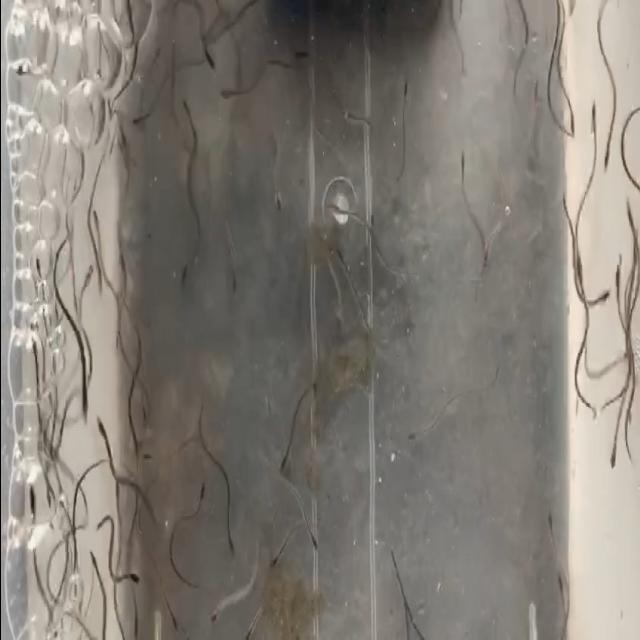active_glass_eel: (404, 407, 430, 458), (538, 494, 561, 543), (24, 327, 46, 378), (130, 96, 156, 139), (270, 438, 294, 482), (194, 35, 218, 79), (120, 555, 142, 603), (570, 250, 590, 302), (271, 182, 289, 238), (24, 474, 40, 537), (85, 216, 104, 268), (192, 470, 210, 520), (216, 80, 235, 126), (393, 66, 416, 104), (125, 419, 142, 469), (558, 104, 578, 146), (140, 433, 160, 475), (326, 180, 344, 226), (609, 253, 627, 297), (206, 582, 222, 630), (452, 144, 472, 182), (179, 93, 199, 131), (70, 358, 90, 396), (331, 292, 346, 340), (30, 244, 48, 284), (551, 567, 569, 607), (356, 102, 374, 142), (332, 238, 349, 278), (606, 436, 620, 484), (598, 277, 614, 319), (220, 520, 236, 562), (93, 402, 109, 444), (618, 197, 638, 230), (225, 264, 242, 302), (476, 232, 490, 278), (108, 474, 124, 514), (290, 40, 310, 70), (305, 520, 321, 557), (120, 0, 138, 32), (77, 258, 92, 296), (586, 94, 598, 140), (598, 153, 616, 180), (241, 606, 255, 640), (84, 545, 100, 574), (164, 604, 179, 632), (271, 535, 279, 584), (40, 486, 55, 511), (309, 378, 320, 403)
